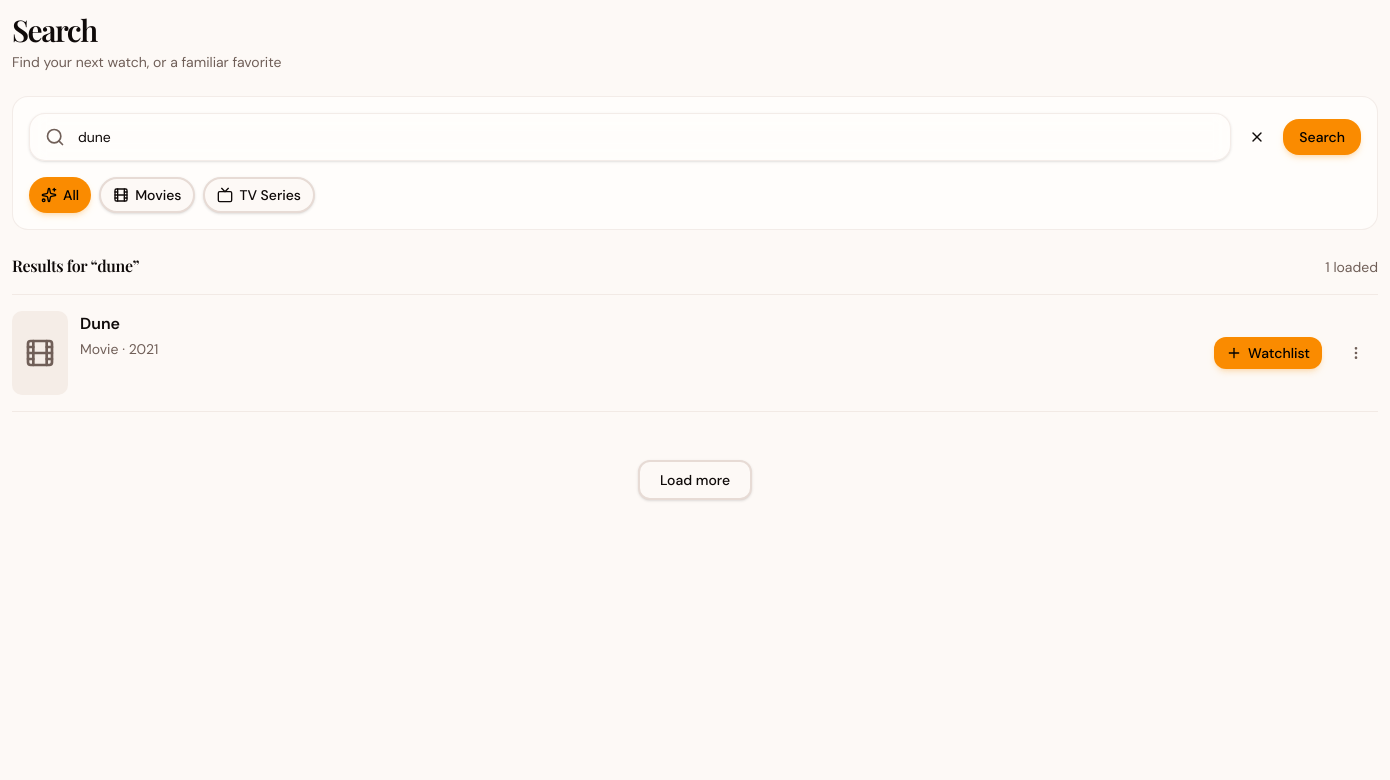
Test case: people-only pages keep pagination reachable and later-page failures keep existing titles
Expected: the link to "/movies/1" shows "Dune", [12,311,158,395]
Click the button "Load more". click: (695, 480)
box: [638,460,752,500]
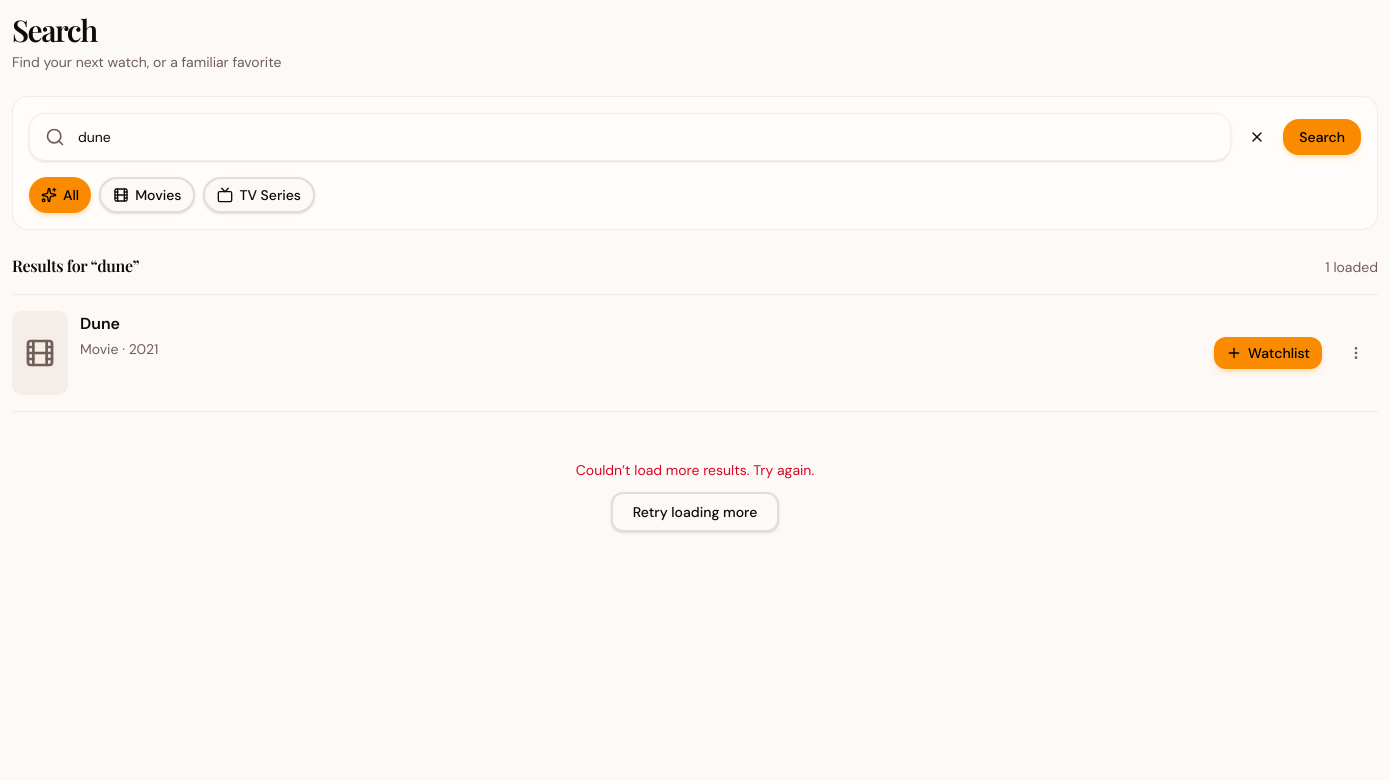
Expected: the link to "/movies/1" is shown, [12,311,158,395]
Click the button "Retry loading more". click: (695, 512)
box: [611,492,779,532]
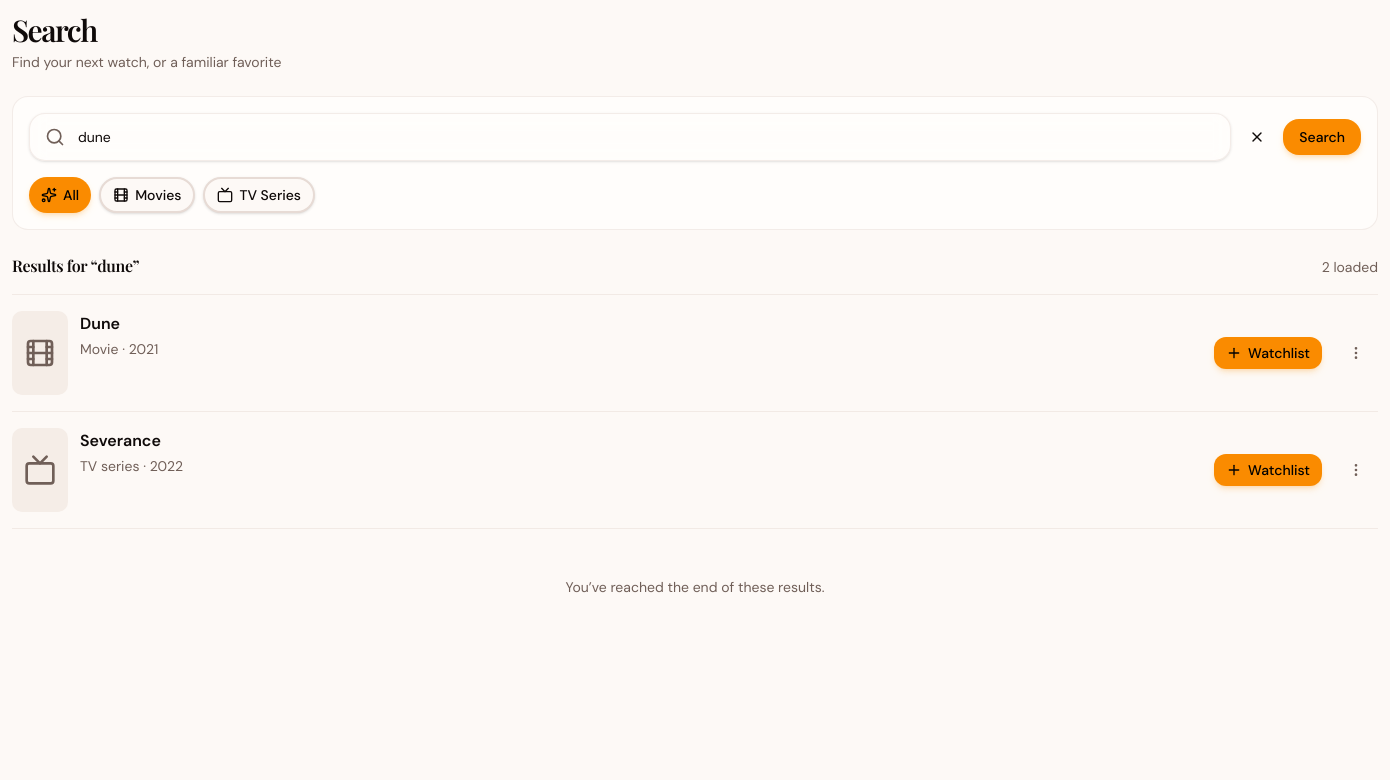
Now the number of links to "/movies/1" is 1, box [12,311,158,395]
Now the link to "/tv-series/2" shows "Severance", box [12,428,183,512]
Now the text "reached the end" is shown, box [566,578,824,596]
